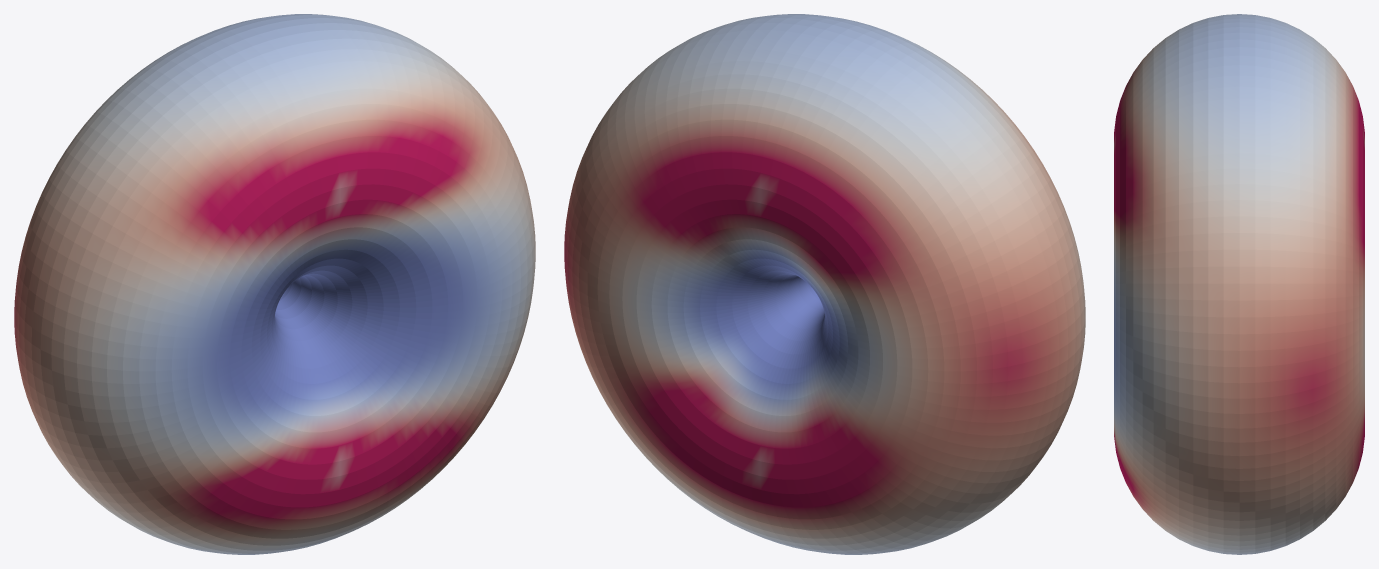
3 views of the same model, side by side, from view 1: azimuth 30°, elevation 25°; view 2: azimuth 150°, elevation 25°; view 3: azimuth 270°, elevation 25° (orthographic). The views are drawn at different scales.
Visible parts, largest first — view 1: world; view 2: world; view 3: world.
Part boxes in pixels (bbox=[...]): world: bbox=[14, 14, 535, 554]; world: bbox=[564, 14, 1085, 554]; world: bbox=[1114, 14, 1364, 554].
Size of the model in its own units: 18.67 by 18.67 by 8.65.
